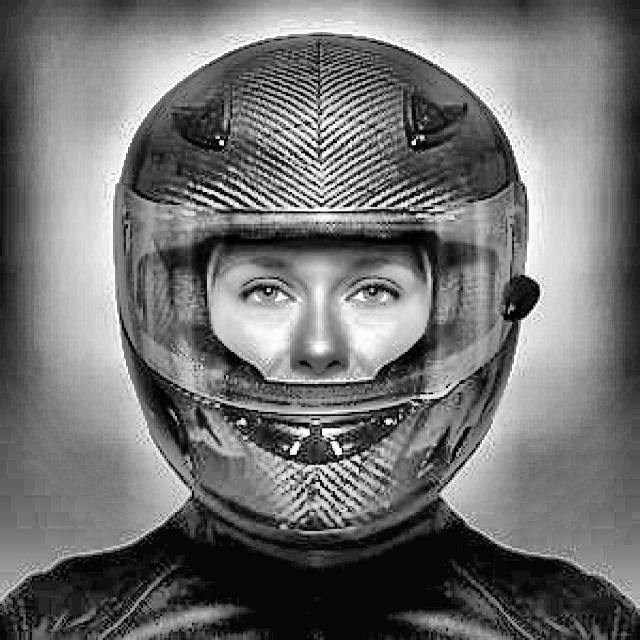Helmet: (88, 24, 560, 570)
